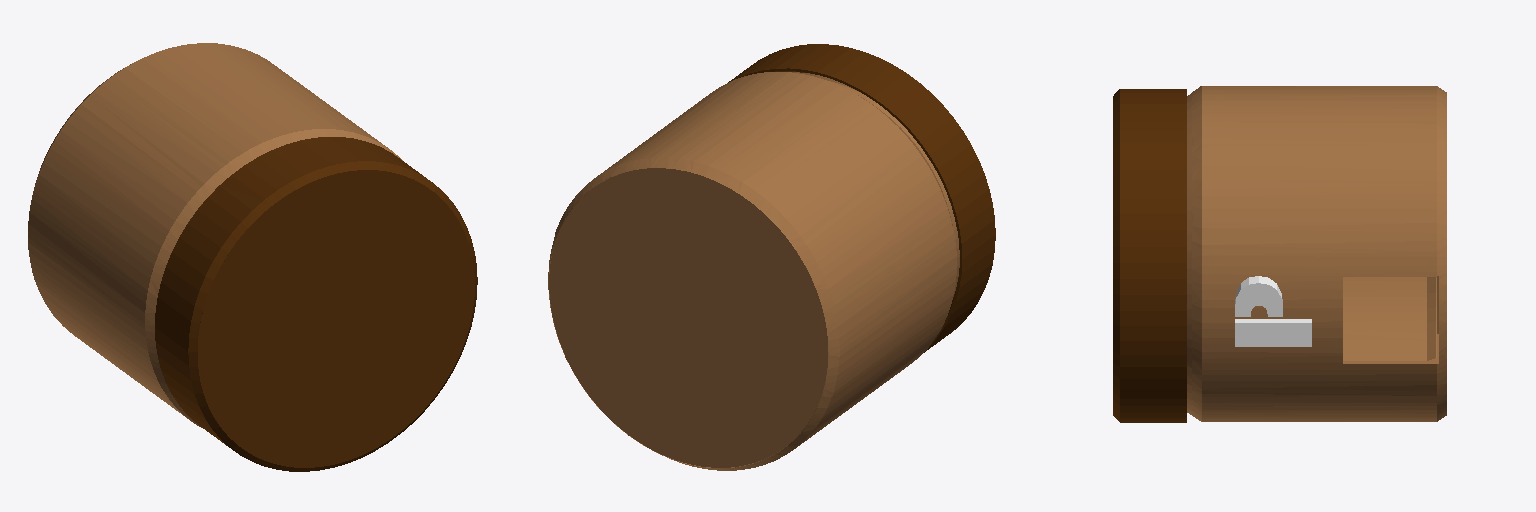
Rendered from tinker.obj.
3 views of the same model, side by side, from view 1: azimuth 30°, elevation 25°; view 2: azimuth 150°, elevation 25°; view 3: azimuth 270°, elevation 25° (orthographic).
Visible parts, largest first — view 1: obj_0; view 2: obj_0; view 3: obj_0.
Part boxes in pixels (left/top/right/bottom): obj_0: left=28, top=43, right=477, bottom=471; obj_0: left=548, top=44, right=995, bottom=470; obj_0: left=1113, top=86, right=1446, bottom=422.
Size of the model in its own units: 71.96 by 70 by 69.28.